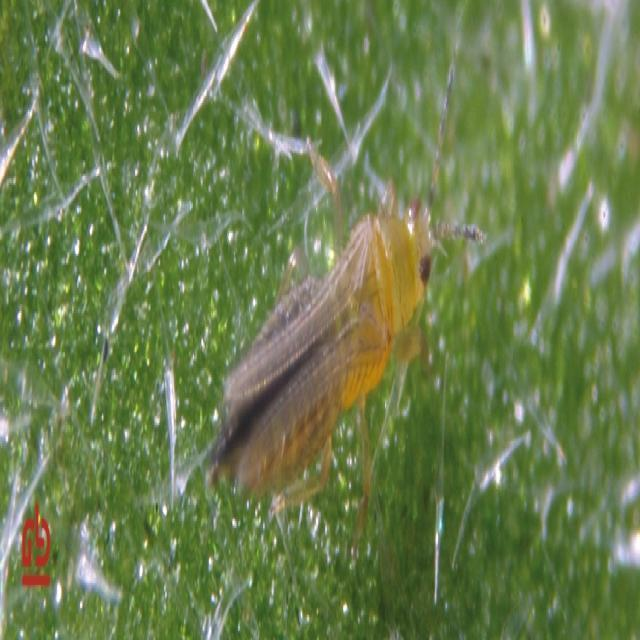Thrips: (175, 102, 512, 504)
